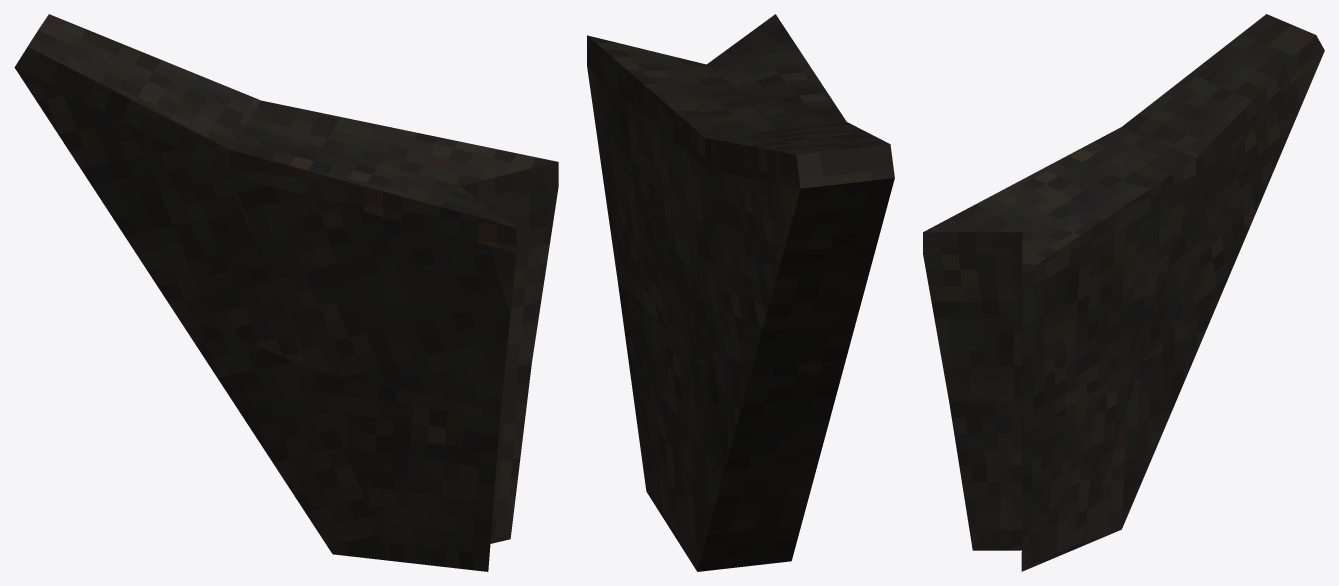
Rendered from horizontal_spike_thin_diagonal.obj.
3 views of the same model, side by side, from view 1: azimuth 30°, elevation 25°; view 2: azimuth 150°, elevation 25°; view 3: azimuth 270°, elevation 25° (orthographic). The views are drawn at different scales.
Visible parts, largest first — view 1: cuboid; view 2: cuboid; view 3: cuboid.
Boxes of the visible parts, x1,y1,x2,y2 form: cuboid: (14,14,558,571); cuboid: (587,14,894,571); cuboid: (923,14,1324,571).
Size of the model in its own units: 1.43 by 1.62 by 1.43.
